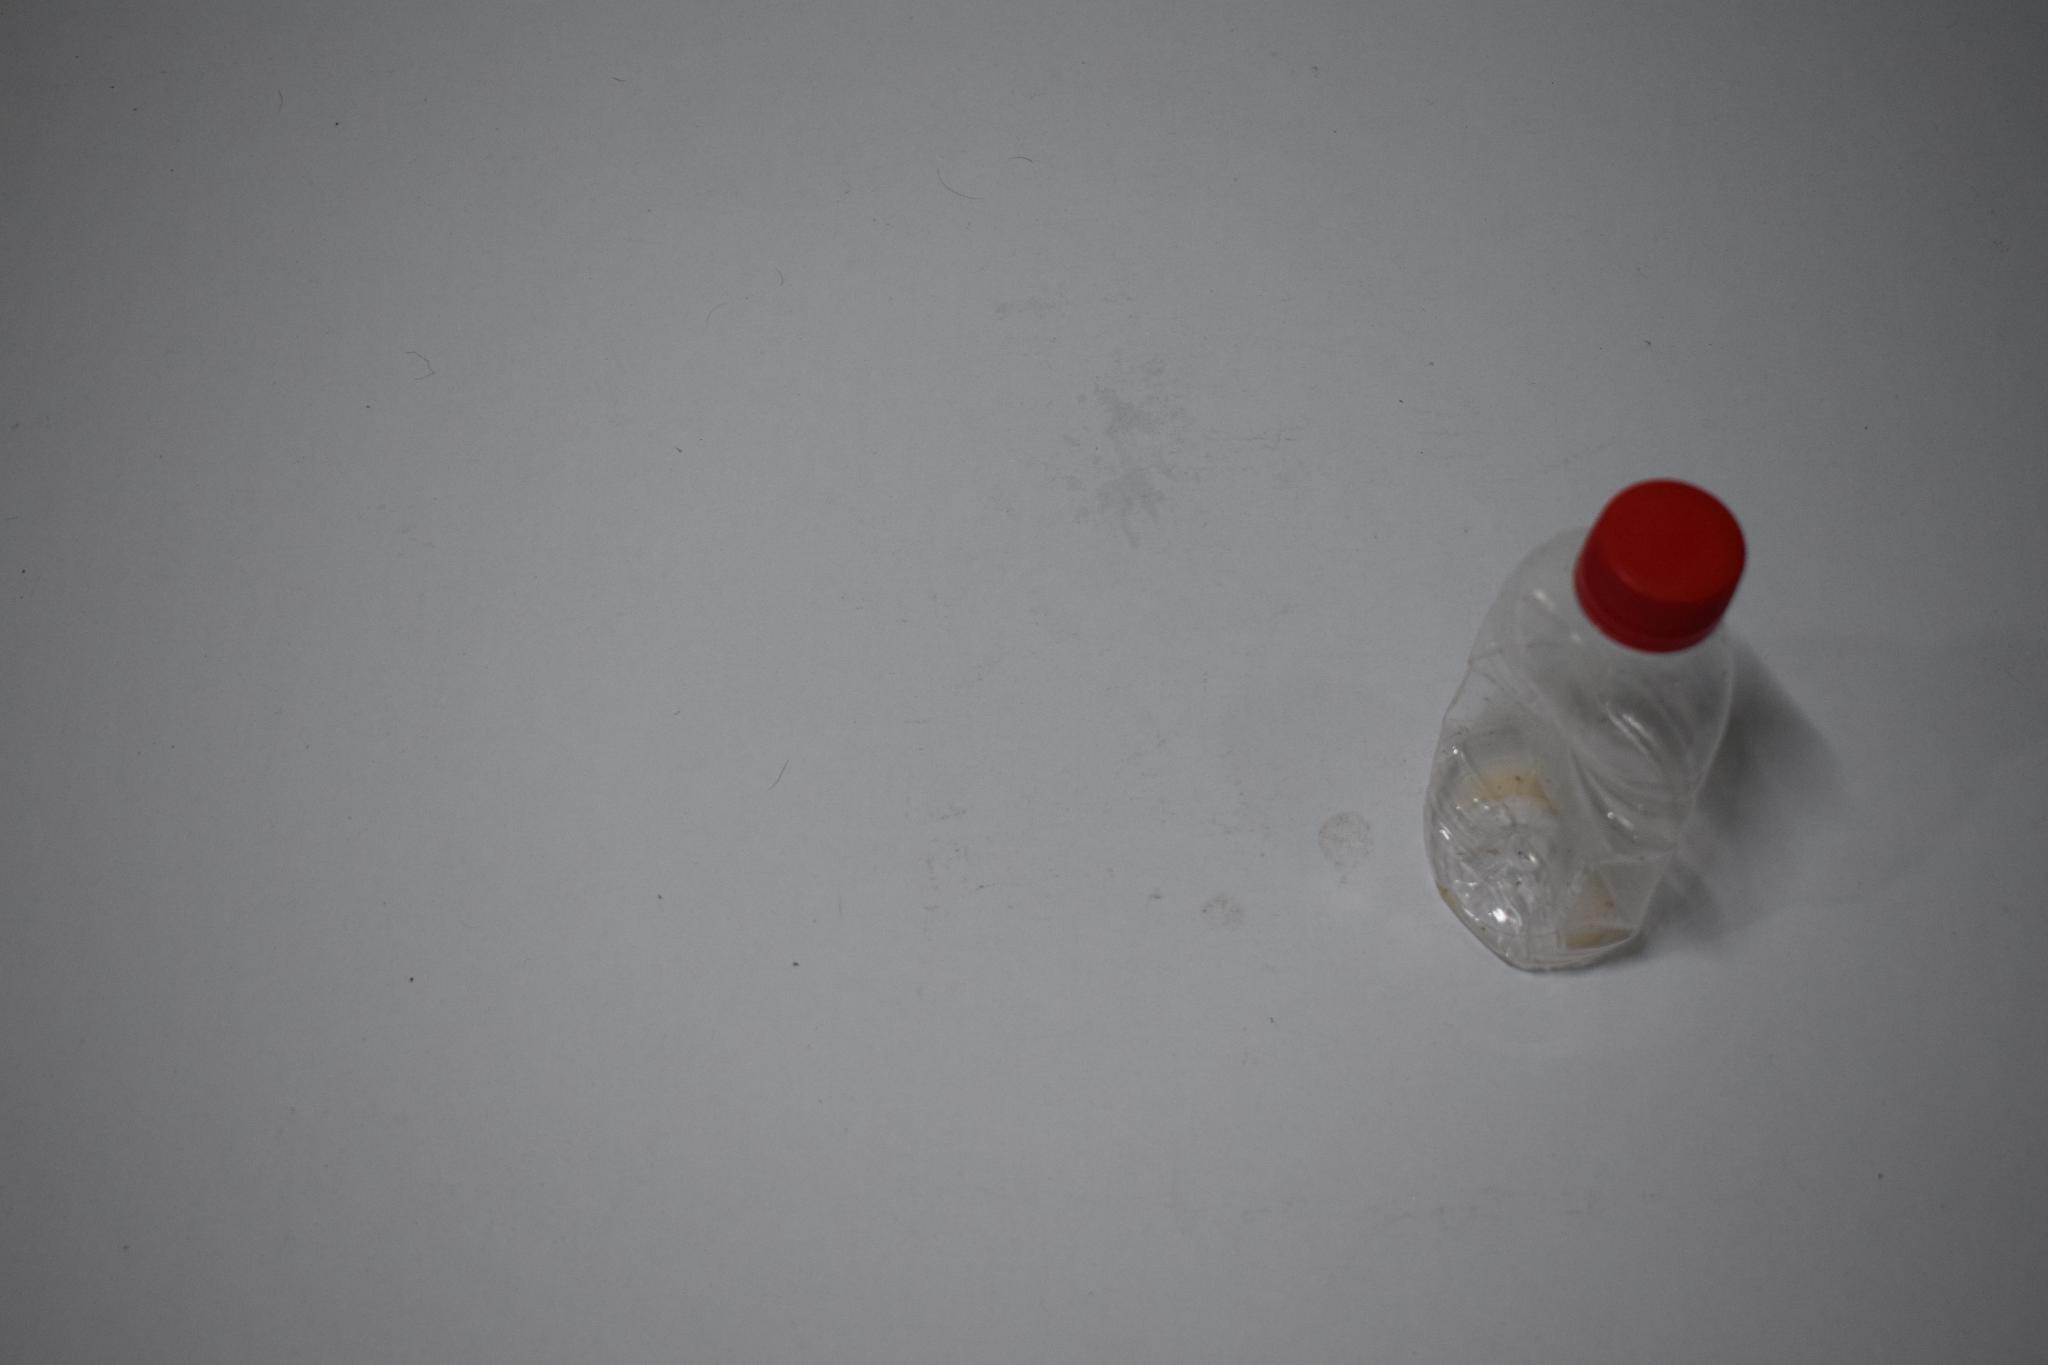bottle: (1407, 456, 1797, 999)
